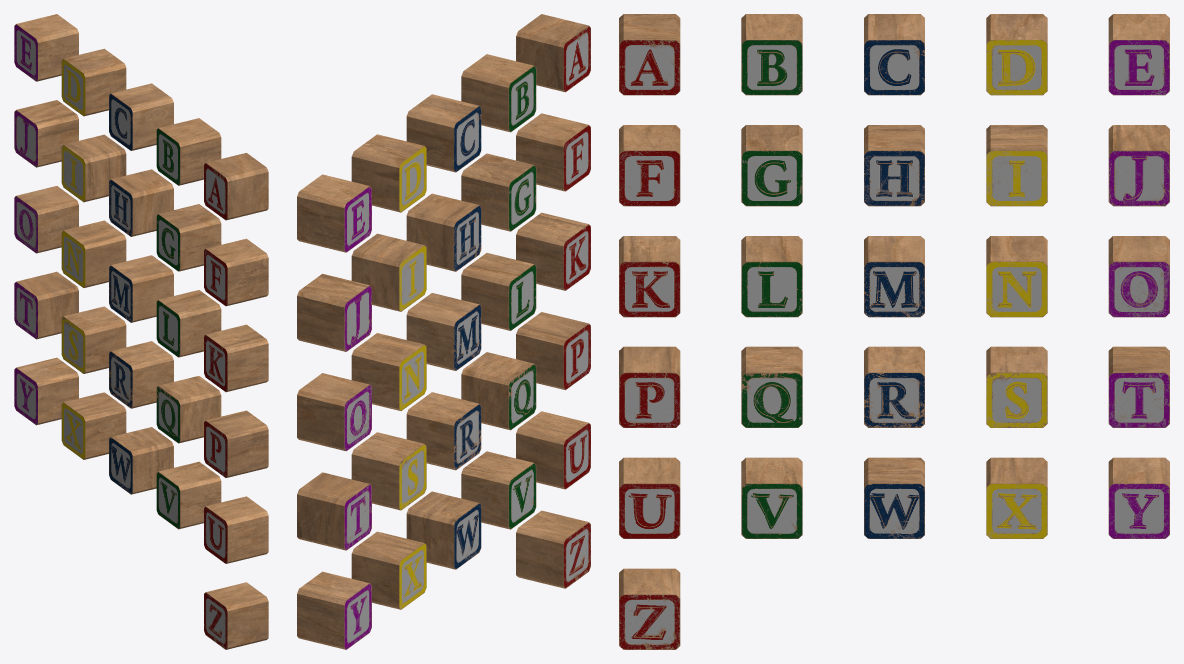
File: wooden_alphabet_blocks.glb
3 views of the same model, side by side, from view 1: azimuth 30°, elevation 25°; view 2: azimuth 150°, elevation 25°; view 3: azimuth 270°, elevation 25° (orthographic). The views are drawn at different scales.
Visible parts, largest first — view 1: F_low, P_low, Z_low, K_low, U_low, A_low, I_low, V_low, S_low, G_low, L_low, Q_low (+14 smaller); view 2: T_low, Z_low, O_low, E_low, J_low, Y_low, G_low, M_low, V_low, W_low, C_low, L_low (+14 smaller); view 3: K_low, O_low, P_low, T_low, F_low, J_low, U_low, Y_low, A_low, E_low, Z_low, B_low (+14 smaller).
Boxes of the visible parts, bbox=[...] form: F_low: bbox=[204, 238, 268, 306]; P_low: bbox=[204, 410, 268, 477]; Z_low: bbox=[204, 582, 268, 649]; K_low: bbox=[204, 324, 268, 392]; U_low: bbox=[204, 496, 268, 563]; A_low: bbox=[204, 153, 268, 220]; I_low: bbox=[61, 134, 126, 202]; V_low: bbox=[156, 461, 221, 529]; S_low: bbox=[61, 306, 126, 373]; G_low: bbox=[156, 204, 221, 271]; L_low: bbox=[156, 290, 221, 357]; Q_low: bbox=[156, 376, 221, 443]; T_low: bbox=[297, 472, 371, 550]; Z_low: bbox=[516, 510, 590, 588]; O_low: bbox=[297, 373, 371, 451]; E_low: bbox=[297, 174, 371, 252]; J_low: bbox=[297, 273, 371, 351]; Y_low: bbox=[297, 571, 371, 649]; G_low: bbox=[461, 153, 536, 231]; M_low: bbox=[406, 293, 481, 370]; V_low: bbox=[461, 451, 536, 529]; W_low: bbox=[406, 491, 481, 569]; C_low: bbox=[406, 94, 481, 172]; L_low: bbox=[461, 253, 536, 330]; K_low: bbox=[619, 236, 680, 317]; O_low: bbox=[1108, 236, 1169, 317]; P_low: bbox=[619, 346, 680, 427]; T_low: bbox=[1108, 346, 1169, 427]; F_low: bbox=[619, 125, 680, 206]; J_low: bbox=[1108, 125, 1169, 206]; U_low: bbox=[619, 457, 680, 538]; Y_low: bbox=[1108, 457, 1169, 538]; A_low: bbox=[619, 14, 680, 95]; E_low: bbox=[1108, 14, 1169, 95]; Z_low: bbox=[619, 568, 680, 649]; B_low: bbox=[741, 14, 802, 95].
Size of the model in its own units: 0.2 by 2.2 by 1.8.
Materials: 1 (1 with a texture image).
